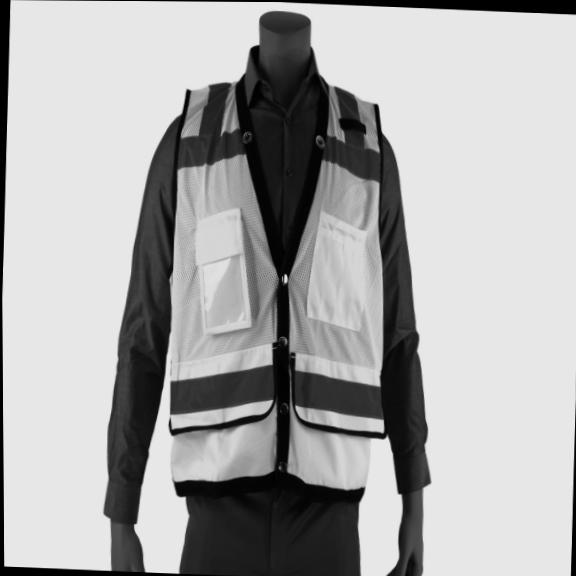safety_vest: (157, 71, 401, 504)
